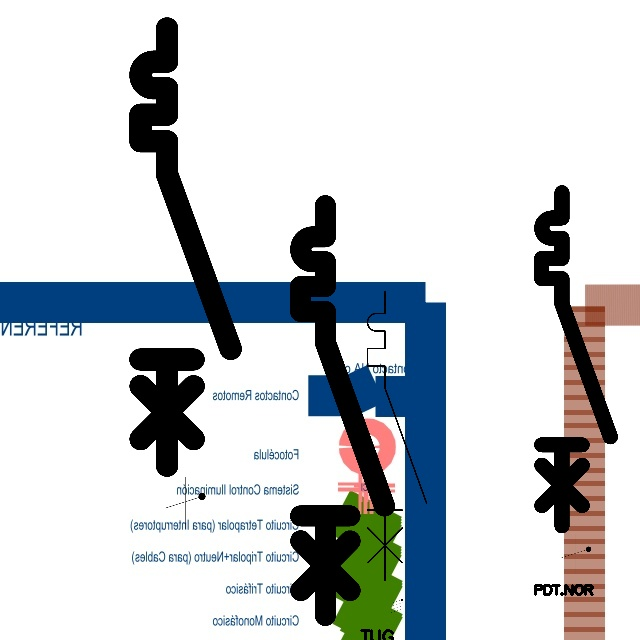interruptor_termomagnetico: (129, 17, 241, 477), (290, 195, 395, 626), (533, 184, 618, 534), (360, 284, 434, 587)
